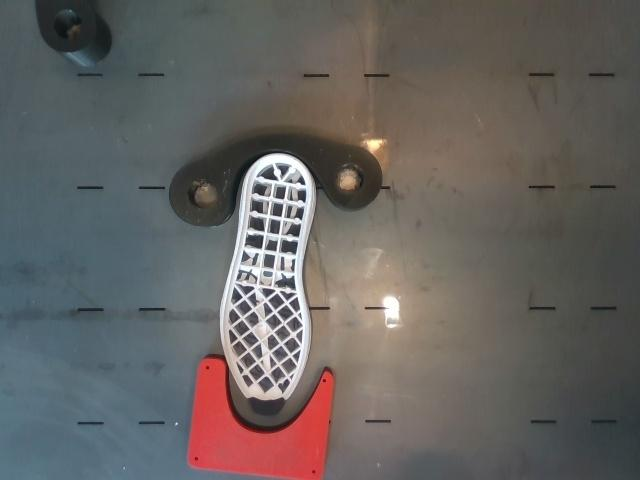shoes: (222, 154, 313, 416)
